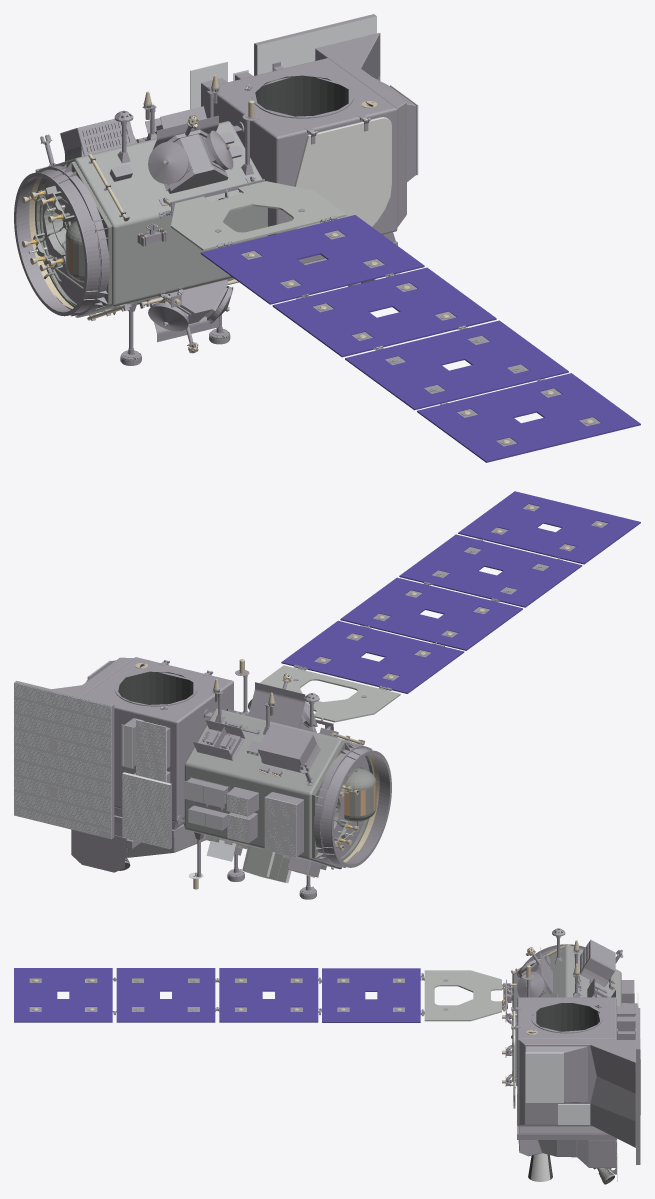
File: icesat2.glb
3 views of the same model, one above another, from view 1: azimuth 30°, elevation 25°; view 2: azimuth 150°, elevation 25°; view 3: azimuth 270°, elevation 25° (orthographic). The views are drawn at different scales.
Parts seen in each view (by area): view 1: MainBus; view 2: MainBus; view 3: MainBus.
Boxes of the visible parts, x1,y1,x2,y2 form: MainBus: [14, 14, 640, 462]; MainBus: [14, 491, 640, 899]; MainBus: [14, 928, 640, 1184].
Bounding box in the file's own units: 3.74 × 2.38 × 7.56.
4 materials, 4 textured.
